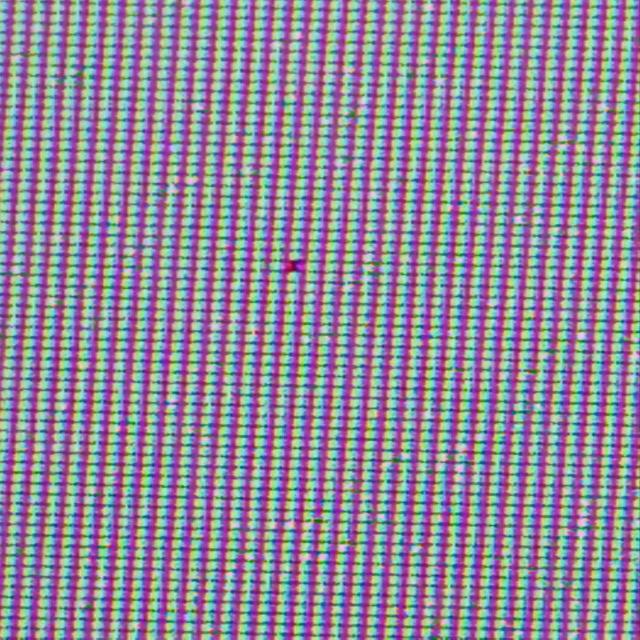Dead pixel: (282, 259, 306, 273)
